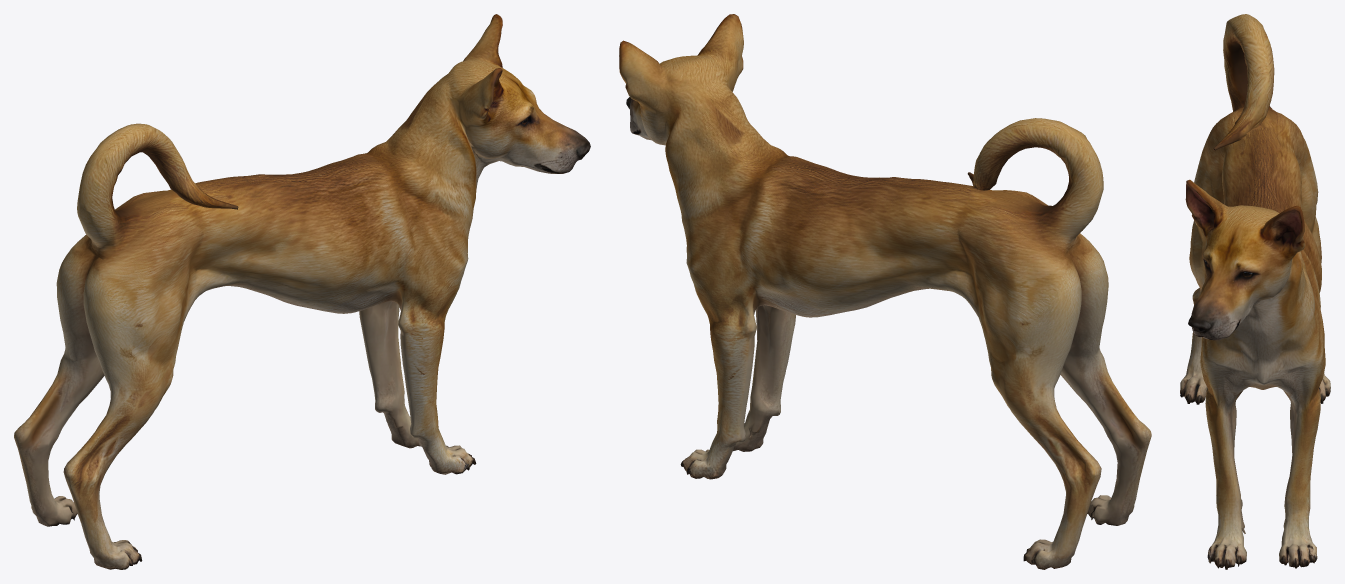
Rendered from an-indian-pariah-street-dog-desi-dog-of-cmv0rt18.glb.
3 views of the same model, side by side, from view 1: azimuth 30°, elevation 25°; view 2: azimuth 150°, elevation 25°; view 3: azimuth 270°, elevation 25° (orthographic). The views are drawn at different scales.
Parts seen in each view (by area): view 1: tripo_node_5383c705-252c-4f42-8a9a-915ecb7f6011; view 2: tripo_node_5383c705-252c-4f42-8a9a-915ecb7f6011; view 3: tripo_node_5383c705-252c-4f42-8a9a-915ecb7f6011.
Boxes of the visible parts, x1,y1,x2,y2 form: tripo_node_5383c705-252c-4f42-8a9a-915ecb7f6011: (14, 14, 590, 569); tripo_node_5383c705-252c-4f42-8a9a-915ecb7f6011: (619, 14, 1151, 569); tripo_node_5383c705-252c-4f42-8a9a-915ecb7f6011: (1180, 14, 1330, 569).
Size of the model in its own units: 1 by 0.7495 by 0.2594.
Materials: 1 (1 with a texture image).
